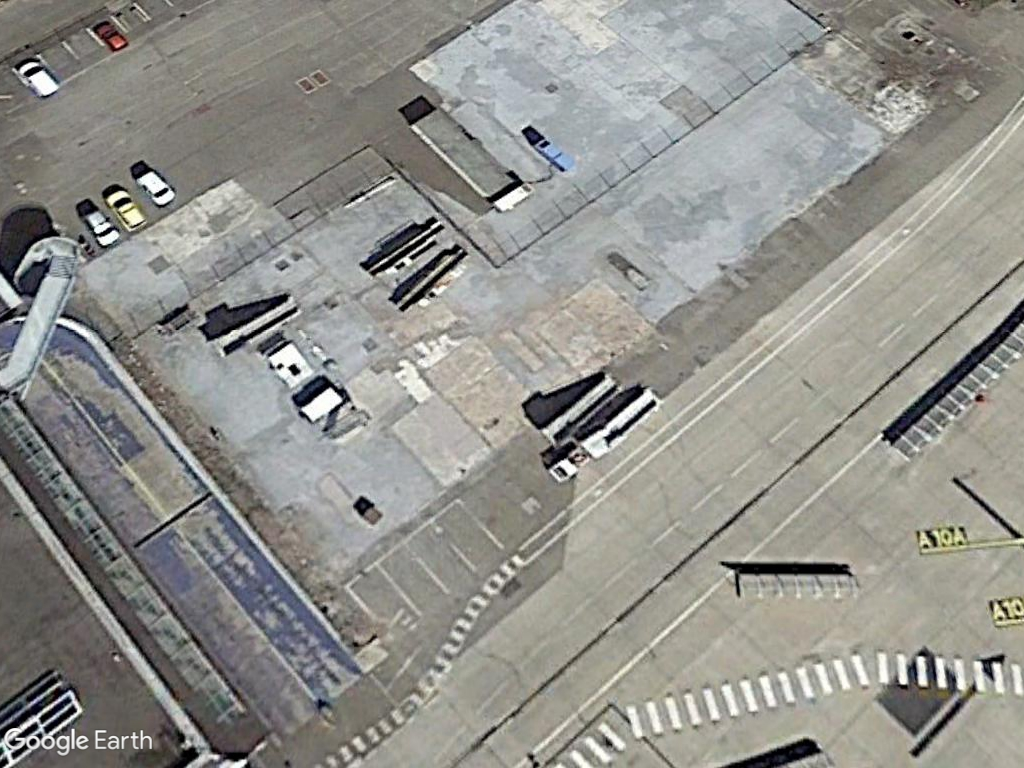stairtruck: (546, 381, 669, 487), (213, 289, 300, 364), (391, 239, 474, 315), (363, 215, 456, 282)
van: (131, 164, 178, 207)
